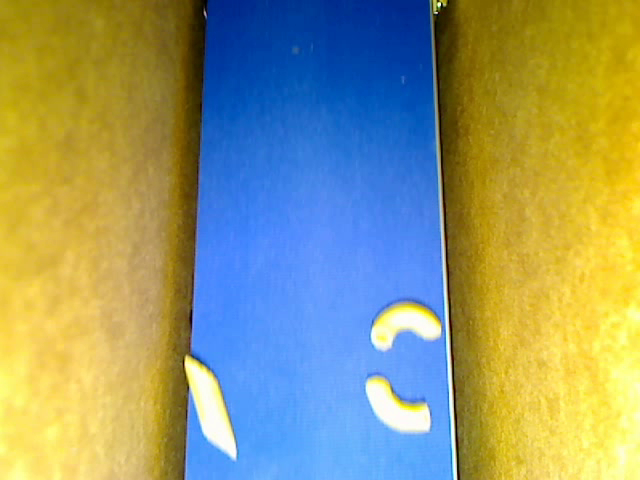elbow: (364, 374, 431, 433), (370, 301, 443, 351)
penne: (183, 354, 237, 460)
